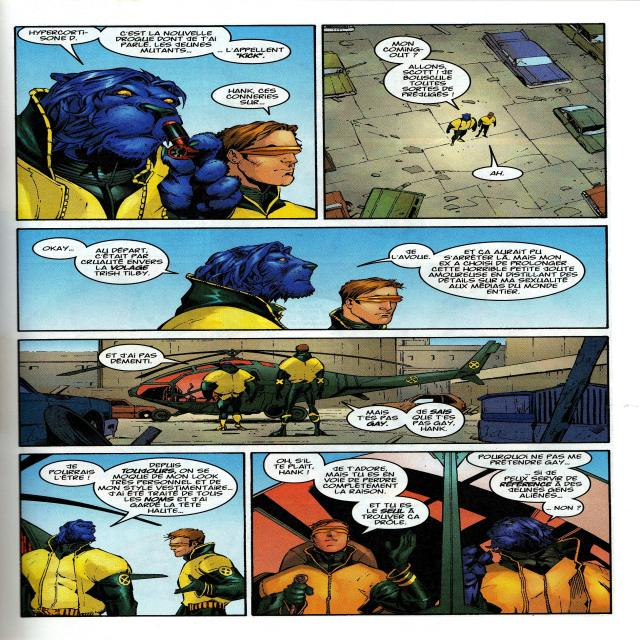comic_panel: (17, 336, 611, 448), (15, 225, 609, 332), (250, 450, 613, 616), (14, 24, 319, 221), (320, 22, 608, 221), (18, 451, 246, 619)
